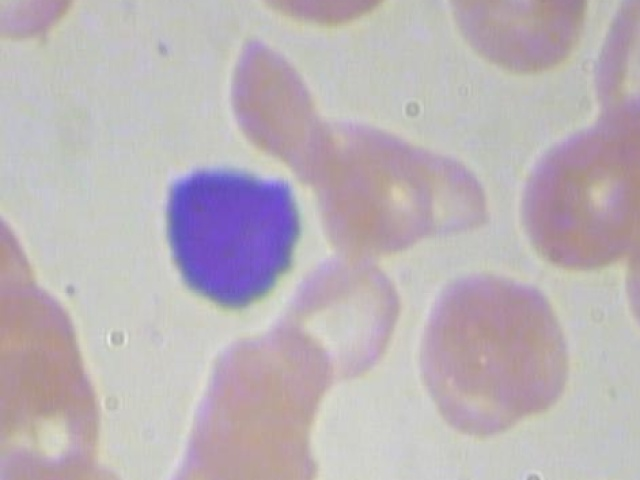RBC: (499, 123, 638, 273), (440, 273, 579, 422), (311, 116, 446, 256), (276, 248, 411, 388), (227, 28, 336, 188), (0, 345, 113, 480), (443, 0, 582, 73), (268, 0, 407, 35), (0, 0, 82, 57)
WBC: (147, 155, 317, 311)
